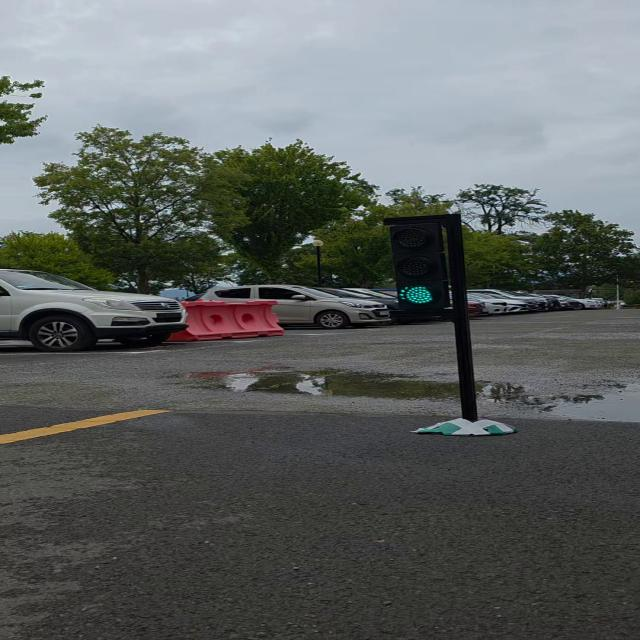green: (388, 219, 461, 312)
